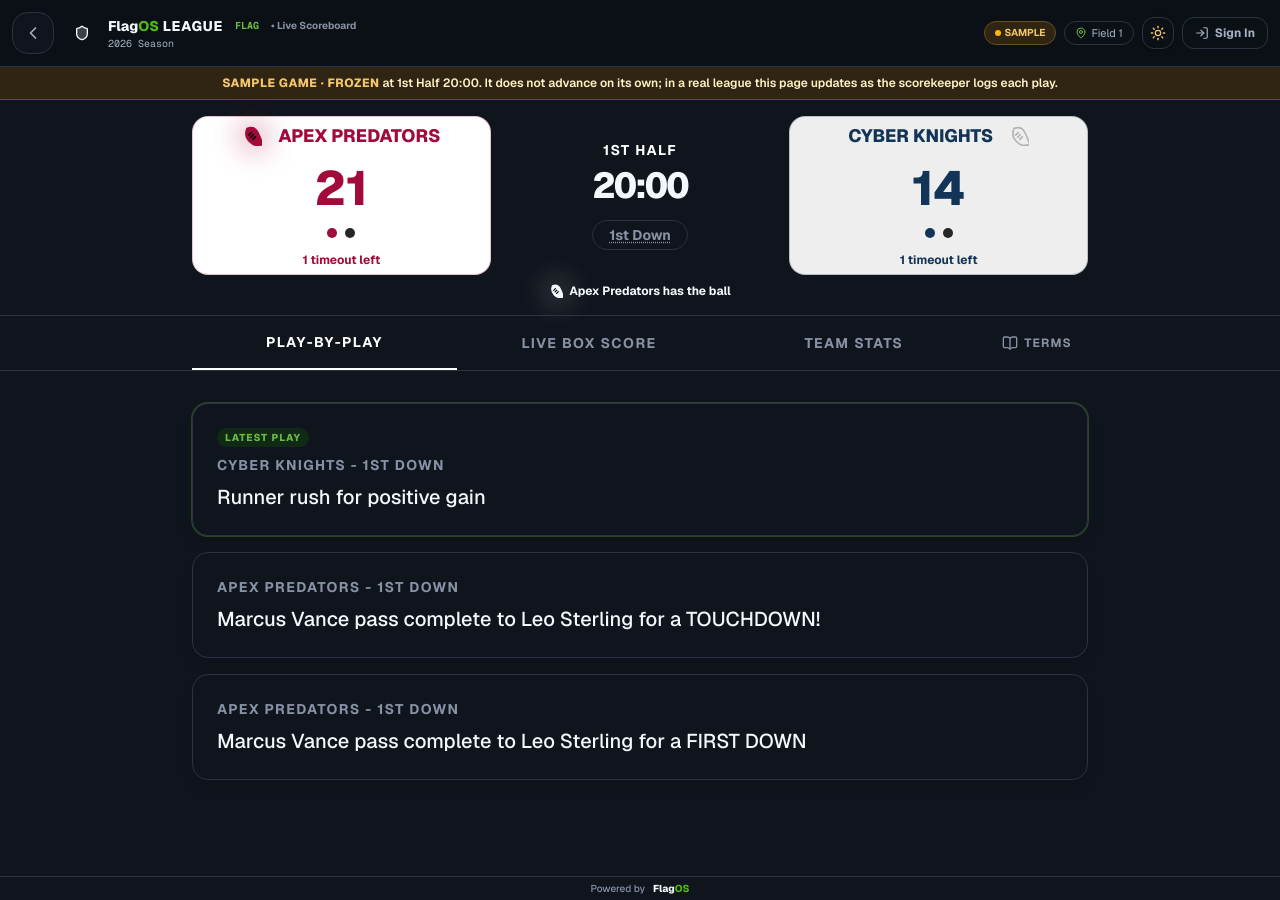
Test: Live Game Spectator & Box Score Suite (ViewerView) › opens flag football terms glossary drawer when Terms button is clicked
The width and height of the screenshot is (1280, 900).
Click the button "Terms": (1037, 342) x1=986 y1=316 x2=1088 y2=370
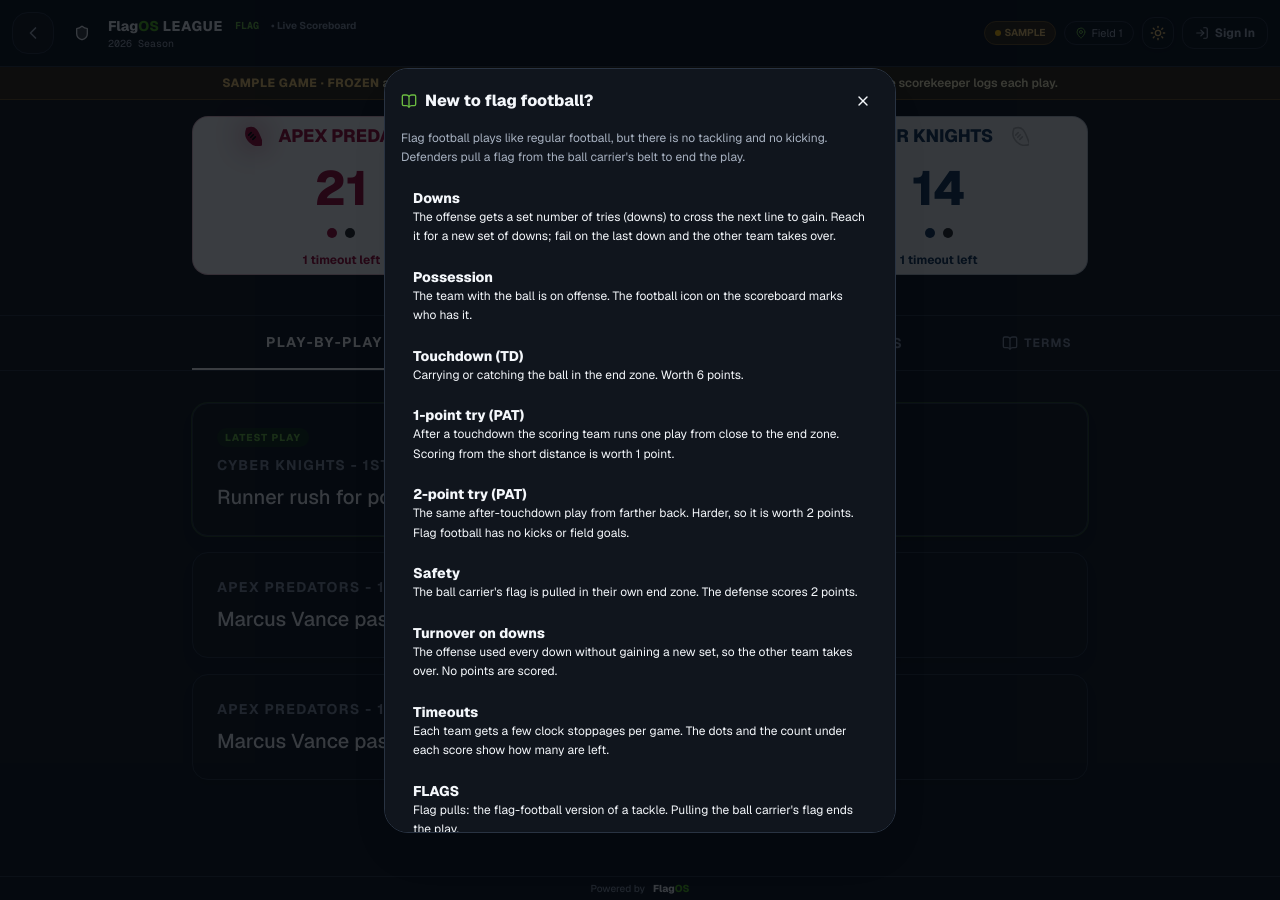
Expected: the dialog named "Flag football terms" is shown, x1=384 y1=68 x2=896 y2=832
Expected: the heading "New to flag football?" is shown, x1=401 y1=88 x2=594 y2=112
